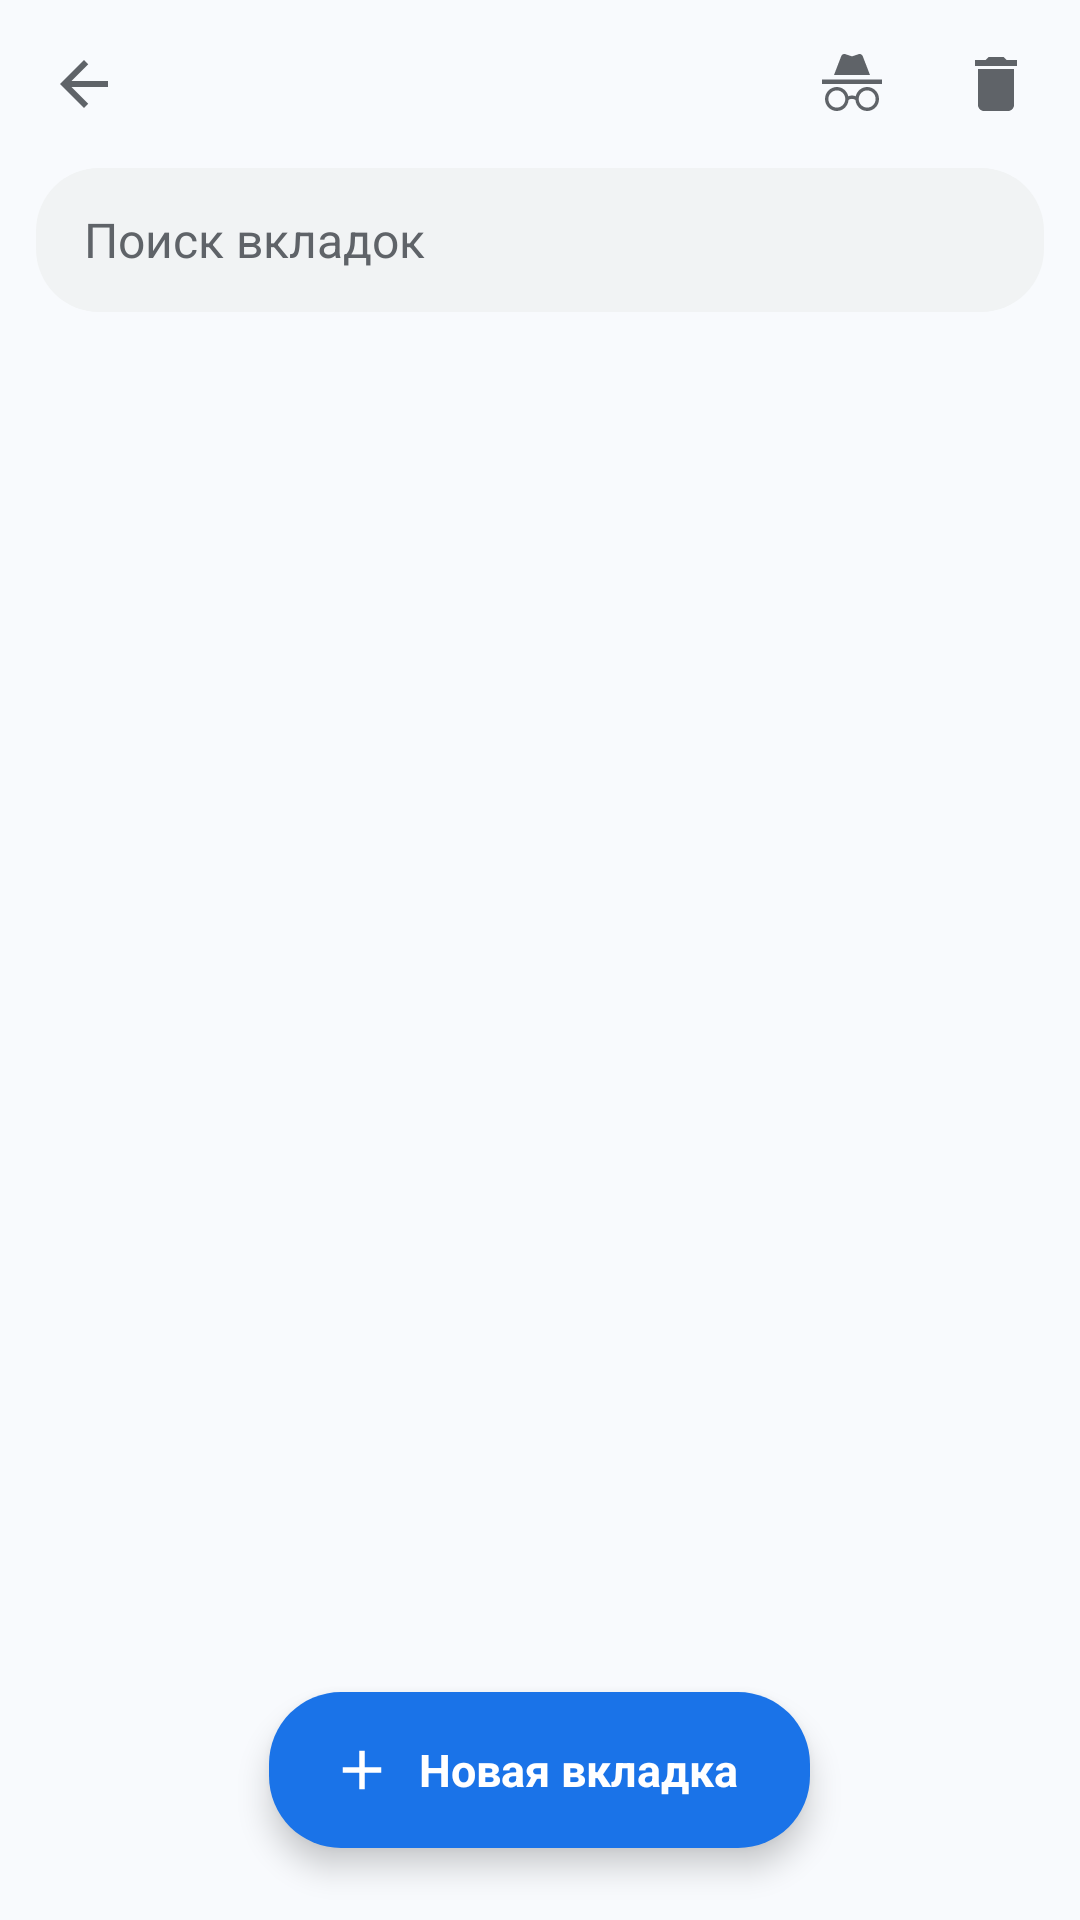

Where to tap for icons on this 1080 × 1920 app screen, as (x,y):
Закрыть все: (996,84)
Назад: (84,84)
Новая вкладка инкогнито: (852,82)
